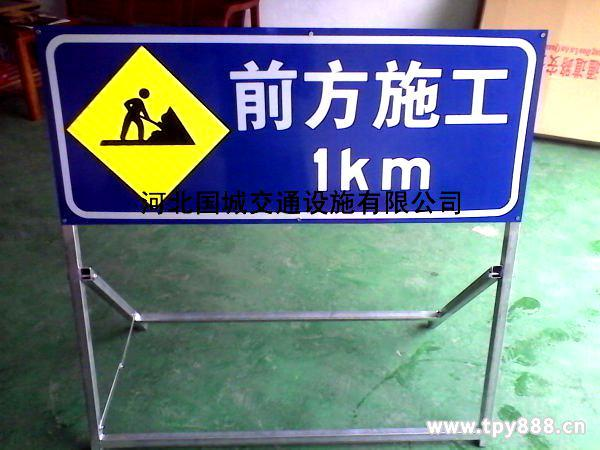sign: (43, 34, 532, 219)
